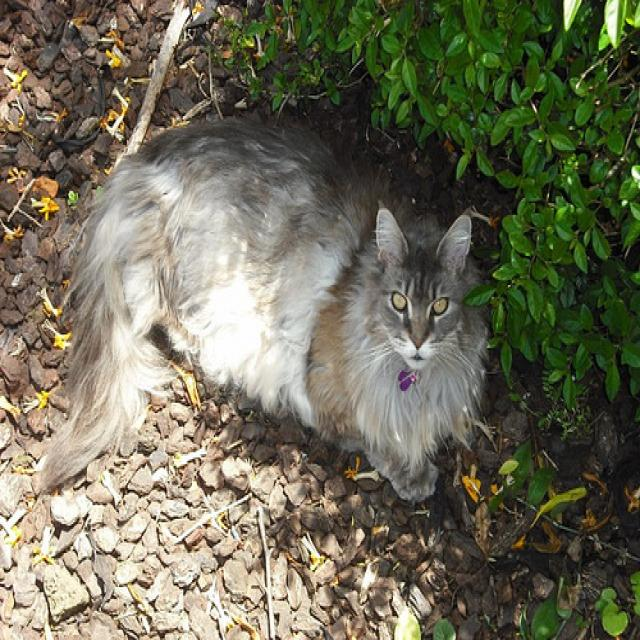cat: (374, 200, 470, 365)
